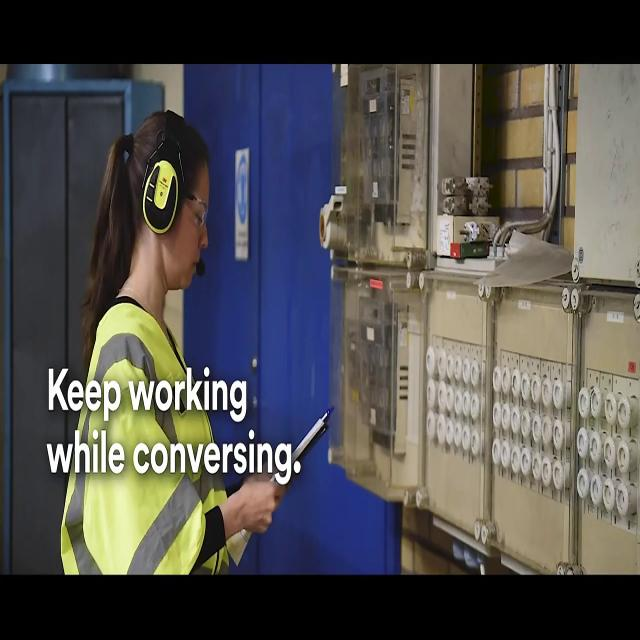earmuff: (138, 151, 182, 242)
glasses: (180, 184, 212, 233)
